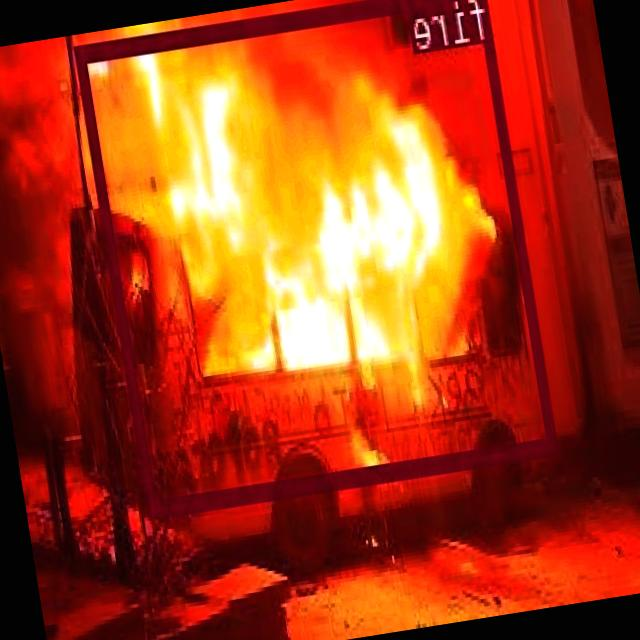fire: (75, 0, 559, 515)
